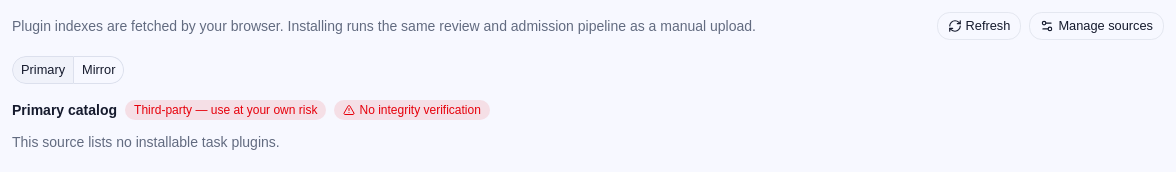
Scenario: MarketplacePanel source switch › loads the alternate source only after the administrator switches to it
Expected: the heading "Primary catalog" is shown, [12,100,117,120]
Click the button "Mirror". click: (99, 70)
box: [74,56,124,84]
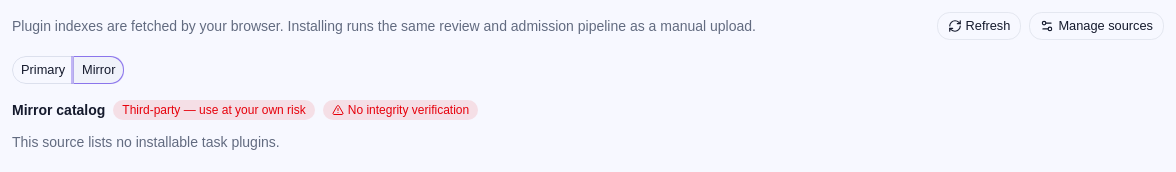
Expected: the heading "Mirror catalog" is shown, [12,100,105,120]
Expected: the heading "Primary catalog" is gone
